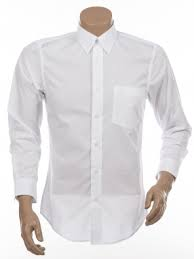S_shirt: (8, 21, 191, 242)
